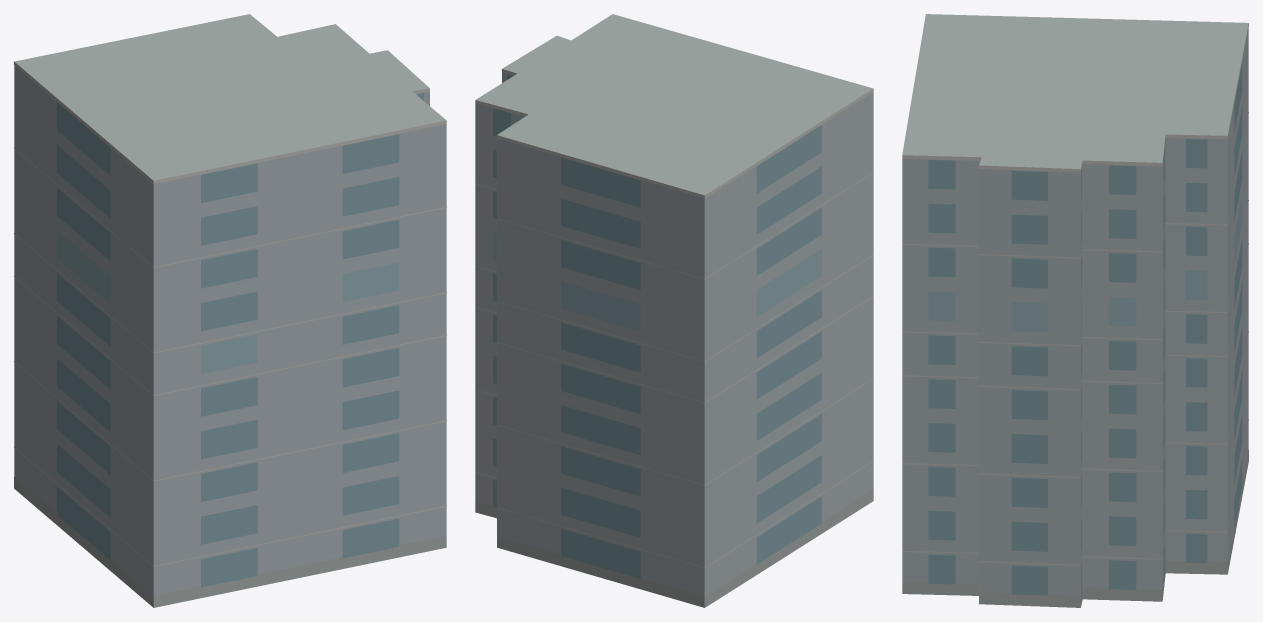
Rendered from survey-upis-32755843.glb.
The picture shows the model from 3 angles, left to right: view 1: azimuth 30°, elevation 25°; view 2: azimuth 150°, elevation 25°; view 3: azimuth 270°, elevation 25°; orthographic projection. The views are drawn at different scales.
Parts seen in each view (by area): view 1: survey-upis-32755843.tmp; view 2: survey-upis-32755843.tmp; view 3: survey-upis-32755843.tmp.
Part boxes in pixels (box(x1,y1,x2,y2)): survey-upis-32755843.tmp: box(14, 14, 446, 607); survey-upis-32755843.tmp: box(475, 14, 873, 607); survey-upis-32755843.tmp: box(902, 14, 1248, 607).
Bounding box in the file's own units: 23.16 × 30.5 × 21.86.
